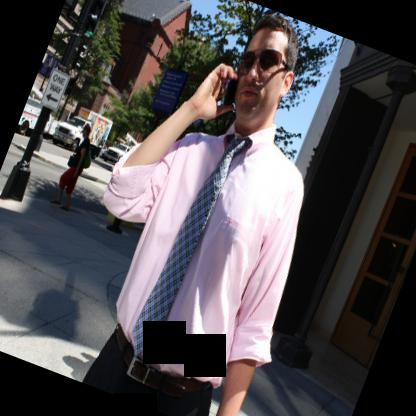backpack: (83, 136, 91, 168)
handbag: (81, 145, 91, 169), (66, 153, 76, 167)
